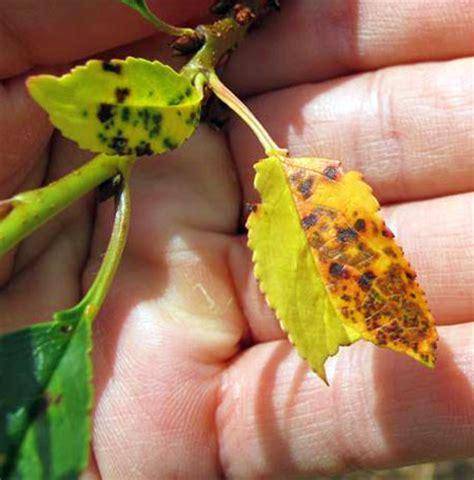black-spot: (90, 86, 170, 147)
